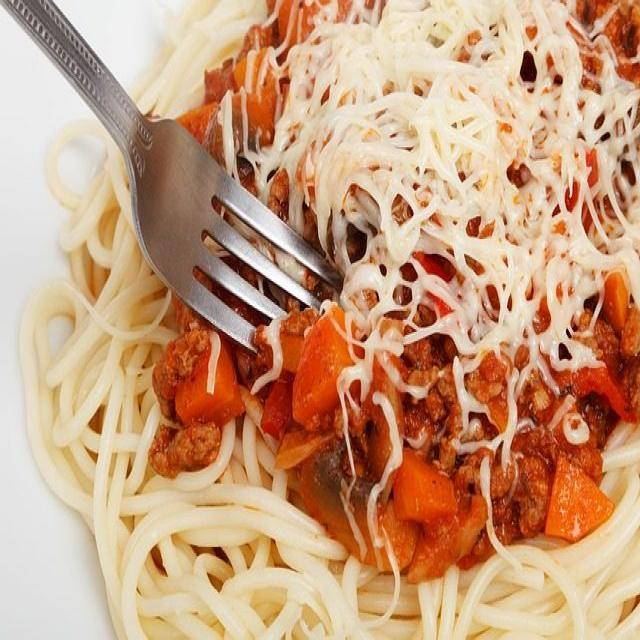Pasta al ragu: (182, 12, 637, 560)
